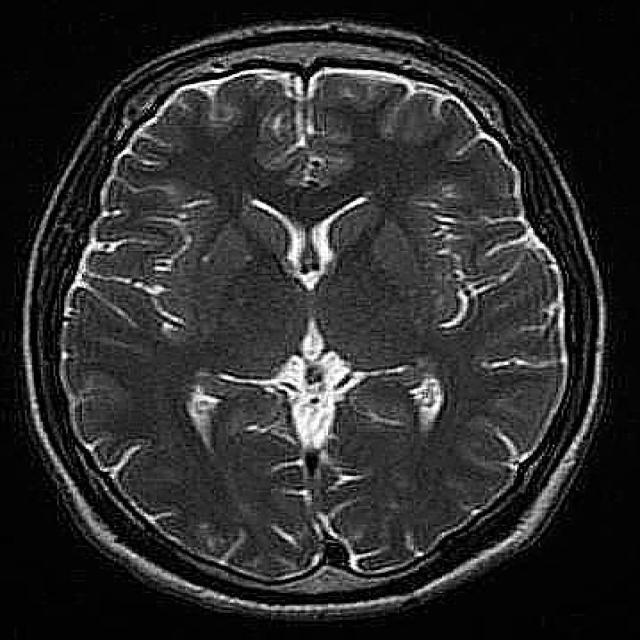notumor: (20, 23, 610, 627)
